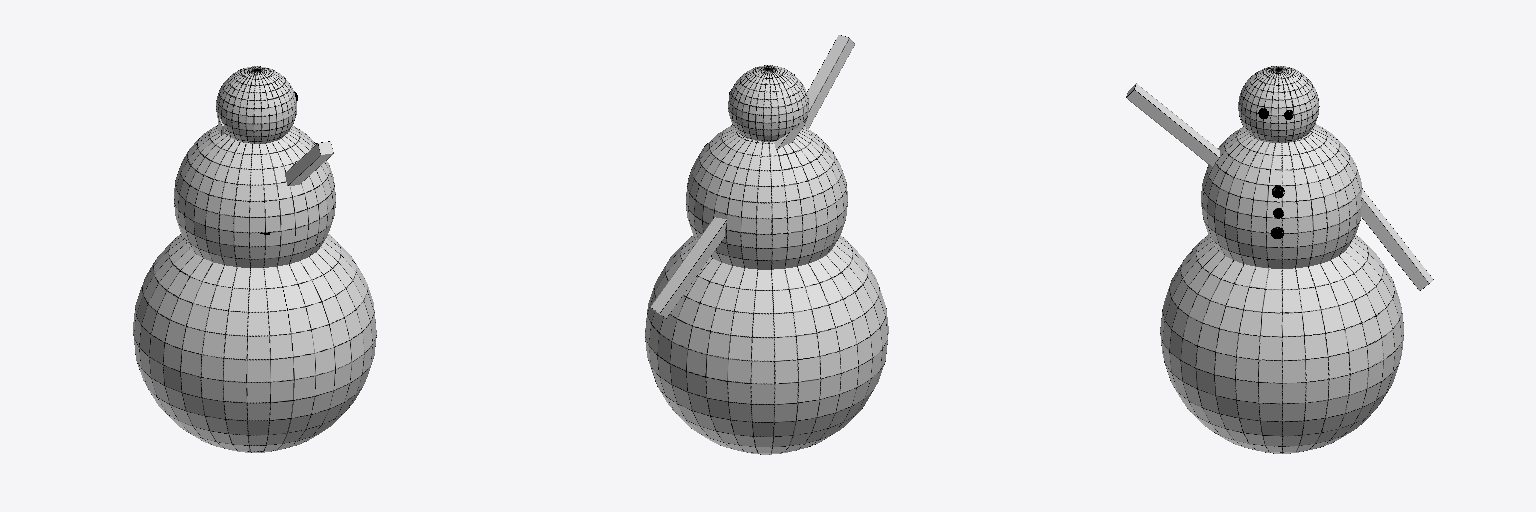
The picture shows the model from 3 angles: view 1: azimuth 30°, elevation 25°; view 2: azimuth 150°, elevation 25°; view 3: azimuth 270°, elevation 25°; orthographic projection.
Visible parts, largest first — view 1: Sphere_Sphere.003; view 2: Sphere_Sphere.003; view 3: Sphere_Sphere.003.
Part boxes in pixels (bbox=[...]): Sphere_Sphere.003: bbox=[133, 66, 376, 452]; Sphere_Sphere.003: bbox=[645, 35, 888, 454]; Sphere_Sphere.003: bbox=[1126, 66, 1433, 453].
Size of the model in its own units: 3 by 5.05 by 3.78.
Materials: 1 (1 with a texture image).